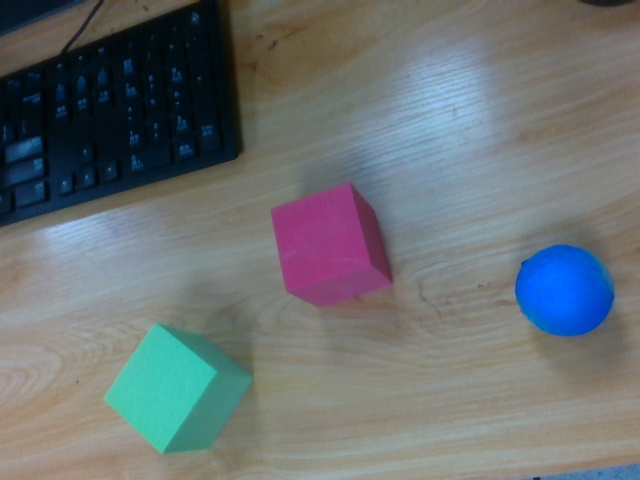blueball: (515, 235, 614, 340)
green: (102, 317, 252, 454)
red: (266, 180, 399, 307)
